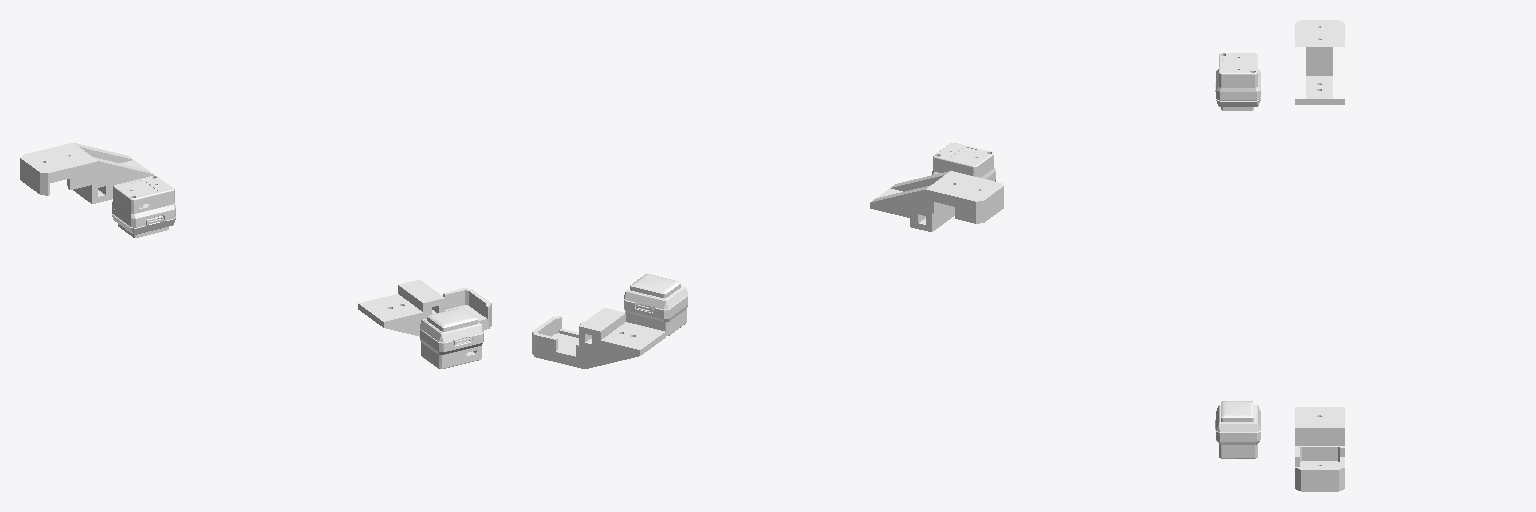
URDF robot description (ur5):
<?xml version="1.0" ?>
<!-- =================================================================================== -->
<!-- |    This document was autogenerated by xacro from ur5_robot.urdf.xacro           | -->
<!-- |    EDITING THIS FILE BY HAND IS NOT RECOMMENDED                                 | -->
<!-- =================================================================================== -->
<robot name="ur5" xmlns:xacro="http://ros.org/wiki/xacro">
  <!-- measured from model -->
  <!--property name="shoulder_height" value="0.089159" /-->
  <!--property name="shoulder_offset" value="0.13585" /-->
  <!-- shoulder_offset - elbow_offset + wrist_1_length = 0.10915 -->
  <!--property name="upper_arm_length" value="0.42500" /-->
  <!--property name="elbow_offset" value="0.1197" /-->
  <!-- CAD measured -->
  <!--property name="forearm_length" value="0.39225" /-->
  <!--property name="wrist_1_length" value="0.093" /-->
  <!-- CAD measured -->
  <!--property name="wrist_2_length" value="0.09465" /-->
  <!-- In CAD this distance is 0.930, but in the spec it is 0.09465 -->
  <!--property name="wrist_3_length" value="0.0823" /-->
  <!-- manually measured -->
  <!-- Arm Links -->
  <link name="base_link">
    <visual name="base_link_visual">
      <geometry>
        <mesh filename="meshes/ur5/visual/base.dae"/>
      </geometry>
    </visual>
    <collision name="base_link_collision">
      <geometry>
        <mesh filename="meshes/ur5/collision/base.stl"/>
      </geometry>
    </collision>
  </link>

  <link name="shoulder_link">
    <visual name="shoulder_link_visual">
      <geometry>
        <mesh filename="meshes/ur5/visual/shoulder.dae"/>
      </geometry>
    </visual>
    <collision name="shoulder_link_collision">
      <geometry>
        <mesh filename="meshes/ur5/collision/shoulder.stl"/>
      </geometry>
    </collision>
  </link>

  <link name="upper_arm_link">
    <visual name="upper_arm_link_visual">
      <geometry>
        <mesh filename="meshes/ur5/visual/upperarm.dae"/>
      </geometry>
    </visual>
    <collision name="upper_arm_link_collision">
      <geometry>
        <mesh filename="meshes/ur5/collision/upperarm.stl"/>
      </geometry>
    </collision>
  </link>

  <link name="forearm_link">
    <visual name="forearm_link_visual">
      <geometry>
        <mesh filename="meshes/ur5/visual/forearm.dae"/>
      </geometry>
    </visual>
    <collision name="forearm_link_collision">
      <geometry>
        <mesh filename="meshes/ur5/collision/forearm.stl"/>
      </geometry>
    </collision>
  </link>

  <link name="wrist_1_link">
    <visual name="wrist_1_link_visual">
      <geometry>
        <mesh filename="meshes/ur5/visual/wrist1.dae"/>
      </geometry>
    </visual>
    <collision name="wrist_1_link_collision">
      <geometry>
        <mesh filename="meshes/ur5/collision/wrist1.stl"/>
      </geometry>
    </collision>
  </link>

  <link name="wrist_2_link">
    <visual name="wrist_2_link_visual">
      <geometry>
        <mesh filename="meshes/ur5/visual/wrist2.dae"/>
      </geometry>
    </visual>
    <collision name="wrist_2_link_collision">
      <geometry>
        <mesh filename="meshes/ur5/collision/wrist2.stl"/>
      </geometry>
    </collision>
  </link>

  <link name="wrist_3_link">
    <visual name="wrist_3_link_visual">
      <geometry>
        <mesh filename="meshes/ur5/visual/wrist3.dae"/>
      </geometry>
    </visual>
    <collision name="wrist_3_link_collision">
      <geometry>
        <mesh filename="meshes/ur5/collision/wrist3.stl"/>
      </geometry>
    </collision>
  </link>


  <!-- Arm Joints -->
  <joint name="shoulder_pan_joint" type="revolute">
    <parent link="base_link"/>
    <child link="shoulder_link"/>
    <origin xyz="0 0 0.089159" rpy="0 0 0"/>
    <axis xyz="0 0 1"/>
    <limit lower="-6.28319" upper="6.28319" effort="150.0" velocity="3.15"/>
  </joint>

  <joint name="shoulder_lift_joint" type="revolute">
    <parent link="shoulder_link"/>
    <child link="upper_arm_link"/>
    <origin xyz="0 0.13585 0" rpy="0 0 0"/>
    <axis xyz="0 1 0"/>
    <limit lower="-6.28319" upper="6.28319" effort="150.0" velocity="3.15"/>
  </joint>

  <joint name="elbow_joint" type="revolute">
    <parent link="upper_arm_link"/>
    <child link="forearm_link"/>
    <origin xyz="0 -0.1197 0.425" rpy="0 0 0"/>
    <axis xyz="0 1 0"/>
    <limit lower="-6.28319" upper="6.28319" effort="150.0" velocity="3.15"/>
  </joint>

  <joint name="wrist_1_joint" type="revolute">
    <parent link="forearm_link"/>
    <child link="wrist_1_link"/>
    <origin xyz="0 0 0.39225" rpy="0 0 0"/>
    <axis xyz="0 1 0"/>
    <limit lower="-6.28319" upper="6.28319" effort="28.0" velocity="3.2"/>
  </joint>

  <joint name="wrist_2_joint" type="revolute">
    <parent link="wrist_1_link"/>
    <child link="wrist_2_link"/>
    <origin xyz="0 0.093 0" rpy="0 0 0"/>
    <axis xyz="0 0 1"/>
    <limit lower="-6.28319" upper="6.28319" effort="28.0" velocity="3.2"/>
  </joint>

  <joint name="wrist_3_joint" type="revolute">
    <parent link="wrist_2_link"/>
    <child link="wrist_3_link"/>
    <origin xyz="0 0 0.09465" rpy="0 0 0"/>
    <axis xyz="0 1 0"/>
    <limit lower="-6.28319" upper="6.28319" effort="28.0" velocity="3.2"/>
  </joint>


  <!-- Arm-Hand Fixed Joint -->

  <joint name="ee_fixed_joint" type="fixed"> 
    <parent link="wrist_3_link"/>
    <child link="ee_link"/>
    <axis xyz="0 0 1"/>
    <origin rpy="0 0 3.141592653589793" xyz="0.0 0.0823 0.0"/> 
  </joint>

  <link name="ee_link">
    <inertial>
      <origin xyz="8.625E-08 -4.6583E-06 0.03145" rpy="0 0 0" />
      <mass value="0.22652" />
      <inertia ixx="0.00020005" ixy="-4.2442E-10" ixz="-2.9069E-10" iyy="0.00017832" iyz="-3.4402E-08" izz="0.00013478" />
    </inertial>
    <visual>
      <origin xyz="0 0 0" rpy="0 0 0" />
      <geometry>
        <mesh filename="meshes/robotiq_2f_140/visual/robotiq_arg2f_base_link.stl" />
      </geometry>
      <material name="">
        <color rgba="0.9 0.1 0.1 1" />
      </material>
    </visual>
    <collision>
      <origin xyz="0.0 0.0 0.0" rpy="1.57079632678995 0 0" />
      <geometry>
        <mesh filename="meshes/robotiq_2f_140/collision/robotiq_arg2f_base_link.stl" />
      </geometry>
    </collision>
  </link>

  <link name="left_inner_knuckle">
    <inertial>
      <origin xyz="0.000123011831763771 0.0507850843201817 0.00103968640075166" rpy="0 0 0" />
      <mass value="0.0271177346495152" />
      <inertia
          ixx="2.61910379223783E-05"
          ixy="-2.43616858946494E-07"
          ixz="-6.37789906117123E-09"
          iyy="2.8270243746167E-06"
          iyz="-5.37200748039765E-07"
          izz="2.83695868220296E-05" />
    </inertial>
    <visual>
      <origin xyz="0 0 0" rpy="0 0 0" />
      <geometry>
        <mesh filename="meshes/robotiq_2f_140/visual/robotiq_arg2f_140_inner_knuckle.stl" />
      </geometry>
      <material name="">
        <color rgba="0.1 0.1 0.1 1" />
      </material>
    </visual>
    <collision>
      <origin xyz="0 0 -0.025" rpy="1.57079632678995 0 0" />
      <geometry>
        <mesh filename="meshes/robotiq_2f_140/collision/robotiq_arg2f_140_inner_knuckle.stl" />
      </geometry>
    </collision>
  </link> 

  <link name="right_inner_knuckle">
    <inertial>
      <origin xyz="0.000123011831763771 0.0507850843201817 0.00103968640075166" rpy="0 0 0" />
      <mass value="0.0271177346495152" />
      <inertia
          ixx="2.61910379223783E-05"
          ixy="-2.43616858946494E-07"
          ixz="-6.37789906117123E-09"
          iyy="2.8270243746167E-06"
          iyz="-5.37200748039765E-07"
          izz="2.83695868220296E-05" />
    </inertial>
    <visual>
      <origin xyz="0 0 0" rpy="0 0 0" />
      <geometry>
        <mesh filename="meshes/robotiq_2f_140/visual/robotiq_arg2f_140_inner_knuckle.stl" />
      </geometry>
      <material name="">
        <color rgba="0.1 0.1 0.1 1" />
      </material>
    </visual>
    <collision>
      <origin xyz="0 0 -0.025" rpy="1.57079632678995 0 0" />
      <geometry>
        <mesh filename="meshes/robotiq_2f_140/collision/robotiq_arg2f_140_inner_knuckle.stl" />
      </geometry>
    </collision>
  </link>

  <joint name="left_inner_knuckle_joint" type="revolute">
    <origin xyz="0 -0.06142 -0.0127" rpy="2.2957963267948965 0 0" />
    <parent link="ee_link" />
    <child link="left_inner_knuckle" />
    <axis xyz="1 0 0" />
    <limit lower="-0.8757" upper="0.8757" velocity="2.0" effort="1000" />
    <mimic joint="finger_joint" multiplier="-1" offset="0" />
  </joint>

  <joint name="right_inner_knuckle_joint" type="revolute">
    <origin xyz="0 -0.06142 0.0127" rpy="-2.2957963267948965 3.141592653589793 -3.141592653589793" />
    <parent link="ee_link" />
    <child link="right_inner_knuckle" />
    <axis xyz="1 0 0" />
    <limit lower="-0.8757" upper="0.8757" velocity="2.0" effort="1000" />
    <mimic joint="finger_joint" multiplier="1" offset="0" />
  </joint> 

  <link name="left_outer_knuckle">
    <inertial>
      <origin xyz="-0.000200000000003065 0.0199435877845359 0.0292245259211331" rpy="0 0 0" />
      <mass value="0.00853198276973456" />
      <inertia
          ixx="2.89328108496468E-06"
          ixy="-1.57935047237397E-19"
          ixz="-1.93980378593255E-19"
          iyy="1.86719750325683E-06"
          iyz="-1.21858577871576E-06"
          izz="1.21905238907251E-06" />
    </inertial>
    <visual>
      <origin xyz="0 0 0" rpy="0 0 0" />
      <geometry>
        <mesh filename="meshes/robotiq_2f_140/visual/robotiq_arg2f_140_outer_knuckle.stl" />
      </geometry>
      <material name="">
        <color rgba="0.792156862745098 0.819607843137255 0.933333333333333 1" />
      </material>
    </visual>
    <collision>
      <origin xyz="0 0 0" rpy="1.57079632678995 0 0" />
      <geometry>
        <mesh filename="meshes/robotiq_2f_140/collision/robotiq_arg2f_140_outer_knuckle.stl" />
      </geometry>
    </collision>
  </link>

  <link name="right_outer_knuckle">
    <inertial>
      <origin xyz="-0.000200000000003065 0.0199435877845359 0.0292245259211331" rpy="0 0 0" />
      <mass value="0.00853198276973456" />
      <inertia
          ixx="2.89328108496468E-06"
          ixy="-1.57935047237397E-19"
          ixz="-1.93980378593255E-19"
          iyy="1.86719750325683E-06"
          iyz="-1.21858577871576E-06"
          izz="1.21905238907251E-06" />
    </inertial>
    <visual>
      <origin xyz="0 0 0" rpy="0 0 0" />
      <geometry>
        <mesh filename="meshes/robotiq_2f_140/visual/robotiq_arg2f_140_outer_knuckle.stl" />
      </geometry>
      <material name="">
        <color rgba="0.792156862745098 0.819607843137255 0.933333333333333 1" />
      </material>
    </visual>
    <collision>
      <origin xyz="0 0 0" rpy="1.57079632678995 0 0" />
      <geometry>
        <mesh filename="meshes/robotiq_2f_140/collision/robotiq_arg2f_140_outer_knuckle.stl" />
      </geometry>
    </collision>
  </link>

  <joint name="finger_joint" type="revolute">
    <origin xyz="0 -0.054905 -0.030601" rpy="2.2957963267948965 0 0" />
    <parent link="ee_link" />
    <child link="left_outer_knuckle" />
    <axis xyz="-1 0 0" />
    <limit lower="0" upper="0.7" velocity="2.0" effort="1000" />
  </joint>

  <joint name="right_outer_knuckle_joint" type="revolute">
    <origin xyz="0 -0.054905 0.030601" rpy="-0.8457 0 -3.141592653589793" />
    <parent link="ee_link" />
    <child link="right_outer_knuckle" />
    <axis xyz="1 0 0" />
    <limit lower="-0.725" upper="0.725" velocity="2.0" effort="1000" />
    <mimic joint="finger_joint" multiplier="-1" offset="0" />
  </joint>

  <link name="left_outer_finger">
    <inertial>
      <origin xyz="0.00030115855001899 0.0373907951953854 -0.0208027427000385" rpy="0 0 0" />
      <mass value="0.022614240507152" />
      <inertia
          ixx="1.52518312458174E-05"
          ixy="9.76583423954399E-10"
          ixz="-5.43838577022588E-10"
          iyy="6.17694243867776E-06"
          iyz="6.78636130740228E-06"
          izz="1.16494917907219E-05" />
    </inertial>
    <visual>
      <origin xyz="0 0 0" rpy="0 0 0" />
      <geometry>
        <mesh filename="meshes/robotiq_2f_140/visual/robotiq_arg2f_140_outer_finger.stl" />
      </geometry>
      <material name="">
        <color rgba="0.1 0.1 0.1 1" />
      </material>
    </visual>
    <collision>
      <origin xyz="0 0 0" rpy="1.57079632678995 0 0" />
      <geometry>
        <mesh filename="meshes/robotiq_2f_140/collision/robotiq_arg2f_140_outer_finger.stl" />
      </geometry>
    </collision>
  </link>

  <link name="right_outer_finger">
    <inertial>
      <origin xyz="0.00030115855001899 0.0373907951953854 -0.0208027427000385" rpy="0 0 0" />
      <mass value="0.022614240507152" />
      <inertia
          ixx="1.52518312458174E-05"
          ixy="9.76583423954399E-10"
          ixz="-5.43838577022588E-10"
          iyy="6.17694243867776E-06"
          iyz="6.78636130740228E-06"
          izz="1.16494917907219E-05" />
    </inertial>
    <visual>
      <origin xyz="0 0 0" rpy="0 0 0" />
      <geometry>
        <mesh filename="meshes/robotiq_2f_140/visual/robotiq_arg2f_140_outer_finger.stl" />
      </geometry>
      <material name="">
        <color rgba="0.1 0.1 0.1 1" />
      </material>
    </visual>
    <collision>
      <origin xyz="0 0 0" rpy="1.57079632678995 0 0" />
      <geometry>
        <mesh filename="meshes/robotiq_2f_140/collision/robotiq_arg2f_140_outer_finger.stl" />
      </geometry>
    </collision>
  </link>

  <joint name="left_outer_finger_joint" type="fixed">
    <origin xyz="0 -0.0260018192872234 0.01821998610742" rpy="0 0 0" />
    <parent link="left_outer_knuckle" />
    <child link="left_outer_finger" />
    <axis xyz="1 0 0" />
  </joint>

  <joint name="right_outer_finger_joint" type="fixed">
    <origin xyz="0 -0.0260018192872234 0.01821998610742" rpy="0 0 0" />
    <parent link="right_outer_knuckle" />
    <child link="right_outer_finger" />
    <axis xyz="1 0 0" />
  </joint>

  <link name="left_inner_finger">
    <inertial>
      <origin xyz="0.000299999999999317 0.0160078233491243 -0.0136945669206257" rpy="0 0 0" />
      <mass value="0.0104003125914103" />
      <inertia
          ixx="2.71909453810972E-06"
          ixy="1.35402465472579E-21"
          ixz="-7.1817349065269E-22"
          iyy="7.69100314106116E-07"
          iyz="6.74715432769696E-07"
          izz="2.30315190420171E-06" />
    </inertial>
    <visual>
      <origin xyz="0 0 0" rpy="0 0 0" />
      <geometry>
        <mesh filename="meshes/robotiq_2f_140/visual/robotiq_arg2f_140_inner_finger.stl" />
      </geometry>
      <material name="">
        <color rgba="0.1 0.1 0.1 1" />
      </material>
    </visual>
    <collision>
      <origin xyz="0 0 0" rpy="1.57079632678995 0 0" />
      <geometry>
        <mesh filename="meshes/robotiq_2f_140/collision/robotiq_arg2f_140_inner_finger.stl" />
      </geometry>
    </collision>
  </link>

  <link name="right_inner_finger">
    <inertial>
      <origin xyz="0.000299999999999317 0.0160078233491243 -0.0136945669206257" rpy="0 0 0" />
      <mass value="0.0104003125914103" />
      <inertia
          ixx="2.71909453810972E-06"
          ixy="1.35402465472579E-21"
          ixz="-7.1817349065269E-22"
          iyy="7.69100314106116E-07"
          iyz="6.74715432769696E-07"
          izz="2.30315190420171E-06" />
    </inertial>
    <visual>
      <origin xyz="0 0 0" rpy="0 0 0" />
      <geometry>
        <mesh filename="meshes/robotiq_2f_140/visual/robotiq_arg2f_140_inner_finger.stl" />
      </geometry>
      <material name="">
        <color rgba="0.1 0.1 0.1 1" />
      </material>
    </visual>
    <collision>
      <origin xyz="0 0 0" rpy="1.57079632678995 0 0" />
      <geometry>
        <mesh filename="meshes/robotiq_2f_140/collision/robotiq_arg2f_140_inner_finger.stl" />
      </geometry>
    </collision>
  </link>

  <joint name="left_inner_finger_joint" type="revolute">
    <origin xyz="0 0.0282203446692936 0.0817554015893473" rpy="-0.725 0 0" />
    <parent link="left_outer_finger" />
    <child link="left_inner_finger" />
    <axis xyz="1 0 0" />
    <limit lower="-0.8757" upper="0.8757" velocity="2.0" effort="1000" />
    <mimic joint="finger_joint" multiplier="1" offset="0" />
  </joint>

  <joint name="right_inner_finger_joint" type="revolute">
    <origin xyz="0 0.0282203446692936 0.0817554015893473" rpy="-0.725 0 0" />
    <parent link="right_outer_finger" />
    <child link="right_inner_finger" />
    <axis xyz="1 0 0" />
    <limit lower="-0.8757" upper="0.8757" velocity="2.0" effort="1000" />
    <mimic joint="finger_joint" multiplier="1" offset="0" />
  </joint>

  <link
    name="left_gelsight_connector">
    <inertial>
      <origin
        xyz="-0.157663212592476 -0.000124171196531324 0.120438138444188"
        rpy="0 0 0" />
      <mass
        value="0.0221225285478857" />
      <inertia
        ixx="1.07229927214735E-05"
        ixy="-4.04103873091654E-21"
        ixz="2.15379317805456E-06"
        iyy="9.94855881736576E-06"
        iyz="6.62592000000011E-08"
        izz="3.68644003164057E-06" />
    </inertial>
    <visual>
      <origin
        xyz="0 0.1768 -0.1395"
        rpy="-1.5707963267899 0 1.5707963267899" />
      <geometry>
        <mesh
          filename="meshes/gelsight_robotiq_connector/visual/gelsight_robotiq.STL" />
      </geometry>
      <material
        name="">
        <color
          rgba="1 1 1 1" />
      </material>
    </visual>
    <collision>
      <origin
        xyz="0 0.1768 -0.1395"
        rpy="0 0 1.5707963267899" />
      <geometry>
        <mesh       
          filename="meshes/gelsight_robotiq_connector/collision/gelsight_robotiq.STL" />
      </geometry>
    </collision>
  </link>

  <link
    name="right_gelsight_connector">
    <inertial>
      <origin
        xyz="-0.157663212592476 -0.000124171196531324 0.120438138444188"
        rpy="0 0 0" />
      <mass
        value="0.0221225285478857" />
      <inertia
        ixx="1.07229927214735E-05"
        ixy="-4.04103873091654E-21"
        ixz="2.15379317805456E-06"
        iyy="9.94855881736576E-06"
        iyz="6.62592000000011E-08"
        izz="3.68644003164057E-06" />
    </inertial>
    <visual>
      <origin
        xyz="0 0.1768 -0.1395"
        rpy="-1.5707963267899 0 1.5707963267899" />
      <geometry>
        <mesh
          filename="meshes/gelsight_robotiq_connector/visual/gelsight_robotiq.STL" />
      </geometry>
      <material
        name="">
        <color
          rgba="1 1 1 1" />
      </material>
    </visual>
    <collision>
      <origin
        xyz="0 0.1768 -0.1395"
        rpy="0 0 1.5707963267899" />
      <geometry>
        <mesh
          filename="meshes/gelsight_robotiq_connector/collision/gelsight_robotiq.STL" />
      </geometry>
    </collision>
  </link>

  <joint name="left_gelsight_connector" type="fixed">
    <origin xyz="0 0.0 0.065" rpy="0 0 0" />
    <parent link="left_inner_finger" />
    <child link="left_gelsight_connector" />
    <axis xyz="0 0 1" />
  </joint>
  <joint name="right_gelsight_connector" type="fixed">
    <origin xyz="0 0.0 0.065" rpy="0. 0 0." />
    <parent link="right_inner_finger" />
    <child link="right_gelsight_connector" />
    <axis xyz="0 0 1" />
  </joint>

  <link
    name="left_gelsight_mini">
    <inertial>
      <origin
        xyz="-0.109892156902594 0.041534939290952 0.150431592177723"
        rpy="0 0 0" />
      <mass
        value="0.00521824808646558" />
      <inertia
        ixx="7.98413040723359E-07"
        ixy="-4.47118903495661E-10"
        ixz="-7.80447946148685E-10"
        iyy="5.68310810488415E-07"
        iyz="7.93106143462849E-10"
        izz="4.0985124041434E-07" />
    </inertial>
    <visual>
      <origin
        xyz="0.042 0.099 -0.149"
        rpy="-1.5707963267899 0 1.5707963267899" />
      <geometry>
        <mesh
          filename="meshes/gelsight_mini/visual/gelsight_mini.STL" />
      </geometry>
      <material
        name="">
        <color
          rgba="1 1 1 1" />
      </material>
    </visual>
    <collision>
      <origin
        xyz="0.042 0.099 -0.149"
        rpy="0 0 1.5707963267899" />
      <geometry>
        <mesh
          filename="meshes/gelsight_mini/collision/gelsight_mini.STL" />
      </geometry>
    </collision>
  </link>

  <link
    name="right_gelsight_mini">
    <inertial>
      <origin
        xyz="-0.109892156902594 0.041534939290952 0.150431592177723"
        rpy="0 0 0" />
      <mass
        value="0.00521824808646558" />
      <inertia
        ixx="7.98413040723359E-07"
        ixy="-4.47118903495661E-10"
        ixz="-7.80447946148685E-10"
        iyy="5.68310810488415E-07"
        iyz="7.93106143462849E-10"
        izz="4.0985124041434E-07" />
    </inertial>
    <visual>
      <origin
        xyz="0.042 0.099 -0.149"
        rpy="-1.5707963267899 0 1.5707963267899" />
      <geometry>
        <mesh
          filename="meshes/gelsight_mini/visual/gelsight_mini.STL" />
      </geometry>
      <material
        name="">
        <color
          rgba="1 1 1 1" />
      </material>
    </visual>
    <collision>
      <origin
        xyz="0.042 0.099 -0.149"
        rpy="0 0 1.5707963267899" />
      <geometry>
        <mesh
          filename="meshes/gelsight_mini/collision/gelsight_mini.STL" />
      </geometry>
    </collision>
  </link>

  <joint name="left_gelsight" type="fixed">
    <origin xyz="0. 0.04 0." rpy="0 0 0" />
    <parent link="left_gelsight_connector" />
    <child link="left_gelsight_mini" />
    <axis xyz="0 0 1" />
  </joint>
  <joint name="right_gelsight" type="fixed">
    <origin xyz="0. 0.04 0." rpy="0 0 0" />
    <parent link="right_gelsight_connector" />
    <child link="right_gelsight_mini" />
    <axis xyz="0 0 1" />
  </joint>

</robot>

--- Facts derived from the render (not from the file) ---
Views: 3 orthographic renders of the robot side by side, from view 1: azimuth 30°, elevation 25°; view 2: azimuth 150°, elevation 25°; view 3: azimuth 270°, elevation 25°.
Robot: ur5 — 20 links, 19 joints (12 revolute, 7 fixed); root link base_link; default pose: every joint at zero.
Links seen in each view (by area): view 1: right_gelsight_connector, left_gelsight_connector, right_gelsight_mini, left_gelsight_mini; view 2: right_gelsight_connector, left_gelsight_connector, left_gelsight_mini, right_gelsight_mini; view 3: left_gelsight_connector, right_gelsight_connector, left_gelsight_mini, right_gelsight_mini.
Link boxes in pixels (x1,y1,x2,y2): right_gelsight_connector: (20, 143, 153, 203); left_gelsight_connector: (358, 280, 491, 336); right_gelsight_mini: (112, 176, 175, 237); left_gelsight_mini: (420, 308, 483, 368); right_gelsight_connector: (870, 171, 1003, 231); left_gelsight_connector: (532, 308, 665, 368); left_gelsight_mini: (624, 274, 687, 335); right_gelsight_mini: (932, 143, 995, 181); left_gelsight_connector: (1295, 407, 1344, 491); right_gelsight_connector: (1295, 20, 1344, 104); left_gelsight_mini: (1215, 401, 1260, 458); right_gelsight_mini: (1215, 53, 1260, 110).
Bounding box of the posed robot: 0.3177 × 0.0809 × 0.177 m (x, y, z).
4 mesh visuals loaded from 14 distinct referenced files (2 binary STL); not drawn: 16 (reference not matched to a file when rendering).